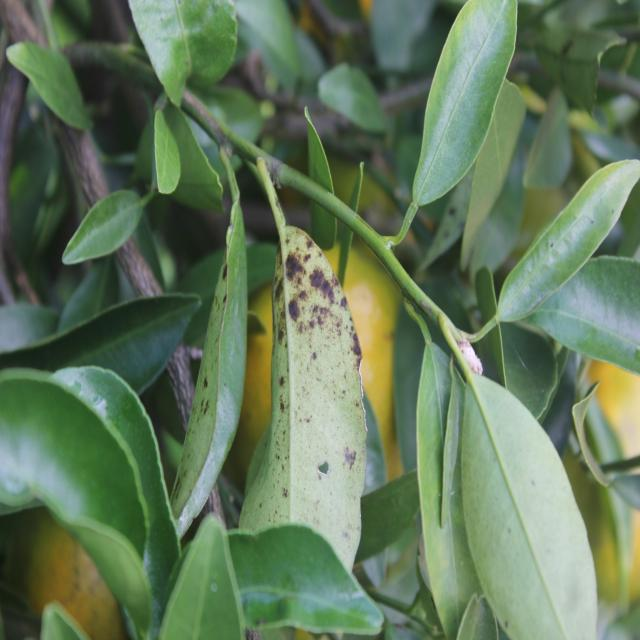melanose: (253, 226, 367, 542), (158, 230, 251, 513)
